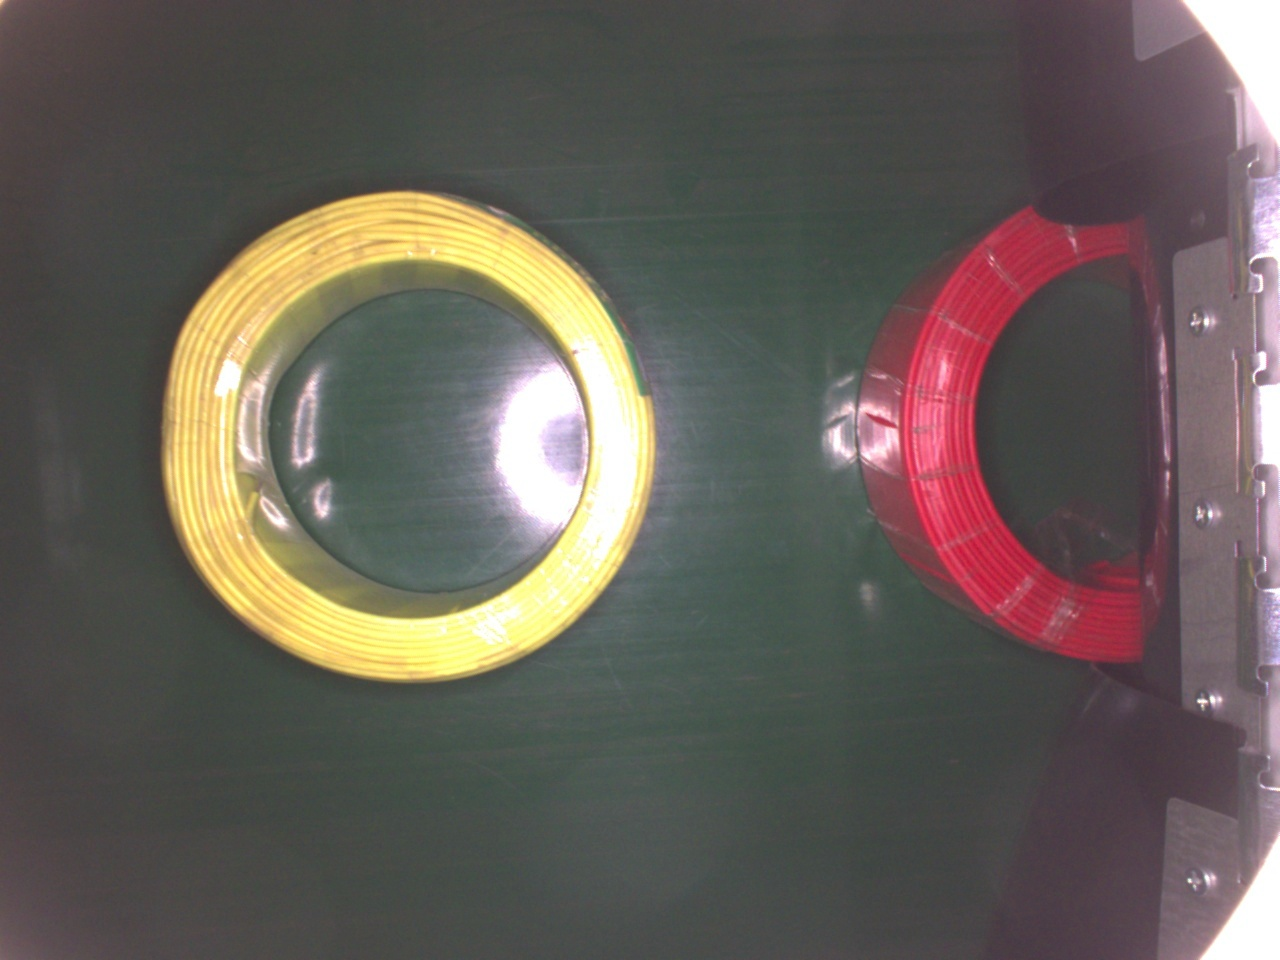red: (859, 202, 1151, 666)
yellow: (156, 191, 657, 684)
